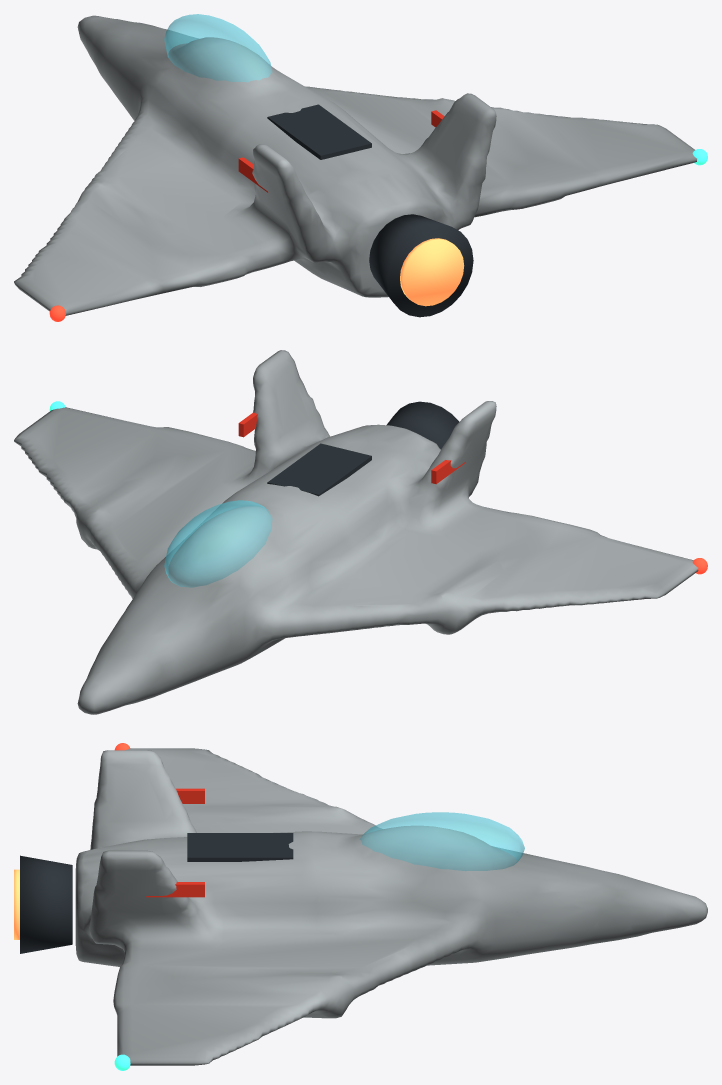
File: interceptor.glb
3 views of the same model, one above another, from view 1: azimuth 30°, elevation 25°; view 2: azimuth 150°, elevation 25°; view 3: azimuth 270°, elevation 25° (orthographic).
Parts seen in each view (by area): view 1: Hull, Canopy, Nozzle, Exhaust, DorsalPlate; view 2: Hull, Canopy, DorsalPlate, Nozzle; view 3: Hull, Canopy, Nozzle, DorsalPlate, FinStripe1.
Part boxes in pixels (x1,y1,x2,y2): Hull: (14, 15, 696, 315); Canopy: (164, 14, 272, 82); Nozzle: (369, 214, 473, 317); Exhaust: (400, 238, 464, 306); DorsalPlate: (267, 104, 371, 159); Hull: (14, 350, 698, 714); Canopy: (164, 500, 272, 587); DorsalPlate: (267, 443, 371, 496); Nozzle: (386, 401, 459, 449); Hull: (75, 748, 707, 1065); Canopy: (360, 812, 524, 870); Nozzle: (20, 855, 72, 953); DorsalPlate: (187, 833, 293, 861); FinStripe1: (146, 882, 204, 897).
Bounding box in the file's own units: 6.41 × 1.48 × 5.9.
